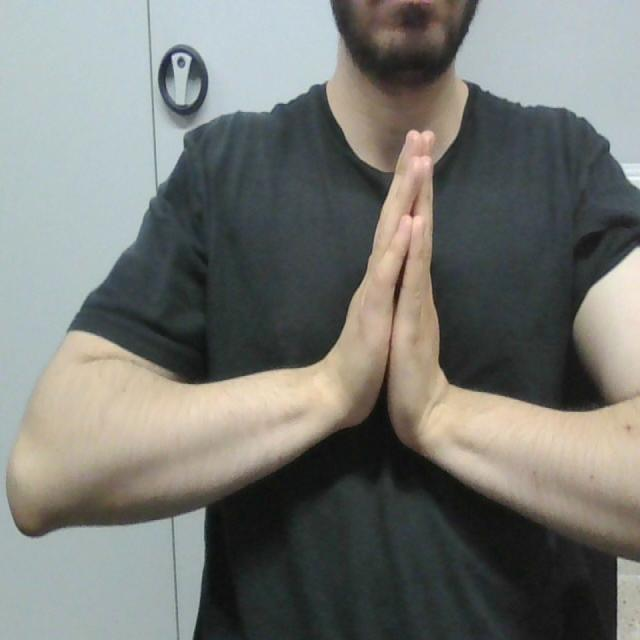Ozur-Dilemek: (328, 115, 448, 480)
